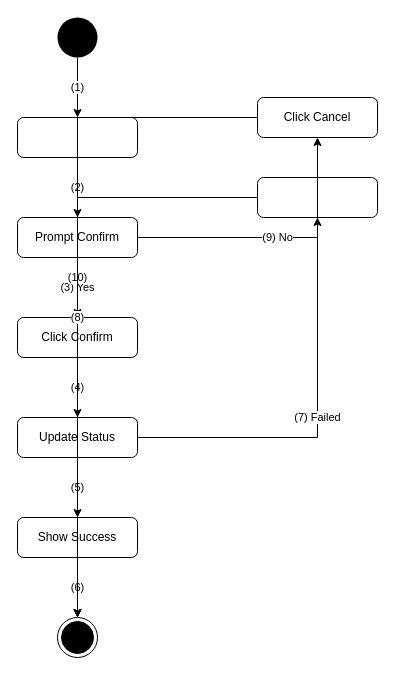
The diagram is 395 pixels wide and 675 high, and some of its shapes have lost their labels. The box of each missing label's shape, as (x1, y1, x2, y2) in pixels:
Click Toggle: (16, 116, 138, 158)
Show Error: (256, 176, 378, 218)
